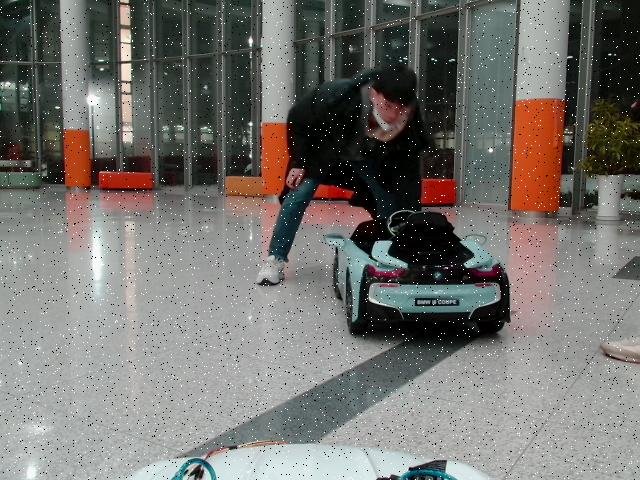car: (323, 210, 511, 340)
